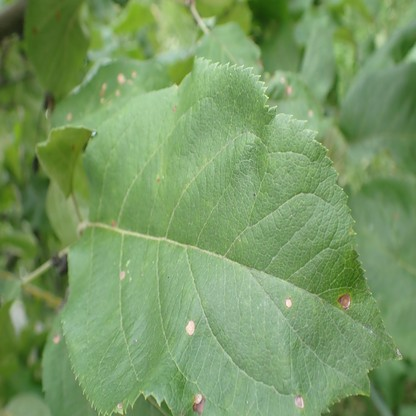frogeye_leaf_spot: (99, 70, 137, 102), (193, 393, 206, 415), (279, 76, 293, 95), (338, 292, 351, 310), (294, 394, 305, 409), (185, 320, 196, 335), (285, 296, 292, 310), (118, 269, 126, 280), (53, 332, 59, 342), (117, 402, 124, 409), (172, 104, 178, 112), (308, 109, 313, 118), (67, 113, 71, 120)
